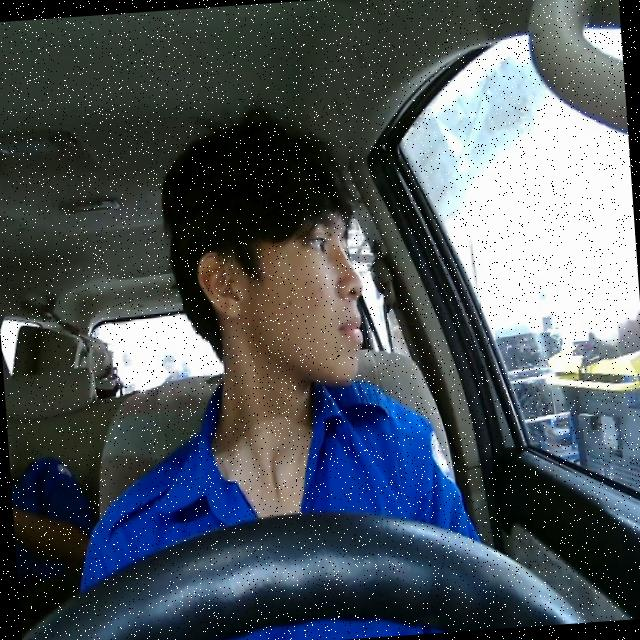seeing_right: (192, 195, 370, 398)
